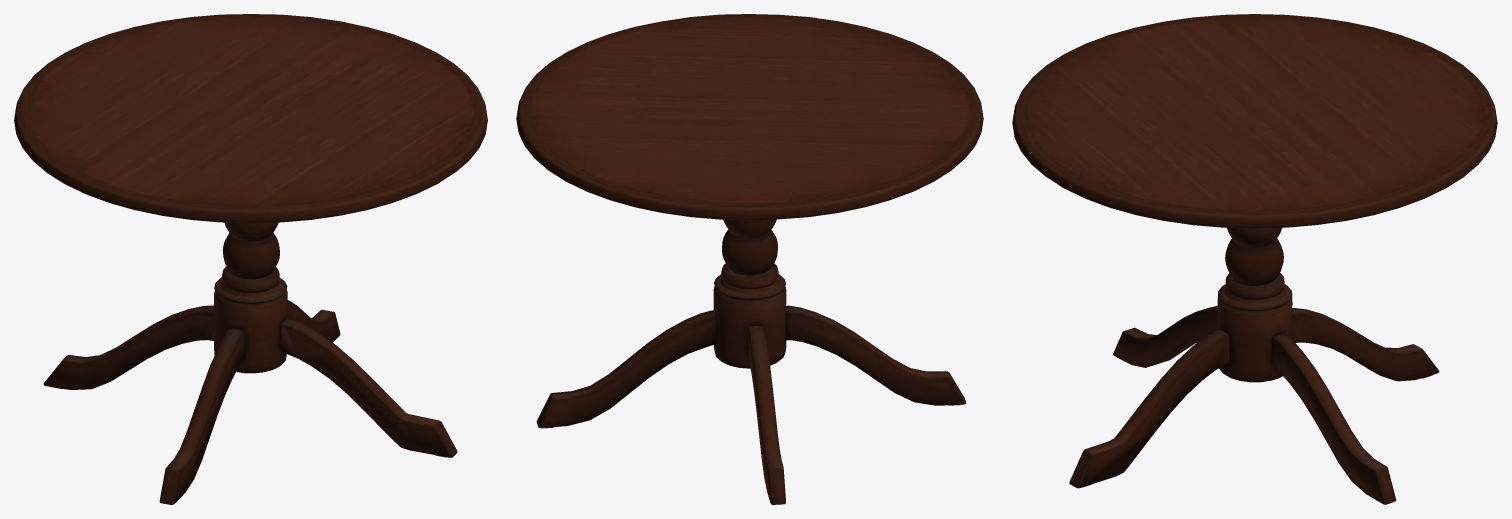
Rendered from round_wooden_table_01.glb.
3 renders of one model, left to right at view 1: azimuth 30°, elevation 25°; view 2: azimuth 150°, elevation 25°; view 3: azimuth 270°, elevation 25°, orthographic. The views are drawn at different scales.
Visible parts, largest first — view 1: round_wooden_table_01; view 2: round_wooden_table_01; view 3: round_wooden_table_01.
Part boxes in pixels (x1,y1,x2,y2): round_wooden_table_01: (14,14,487,504); round_wooden_table_01: (516,14,983,504); round_wooden_table_01: (1012,14,1497,504).
Size of the model in its own units: 1.4 by 1.01 by 1.4.
Materials: 1 (1 with a texture image).
